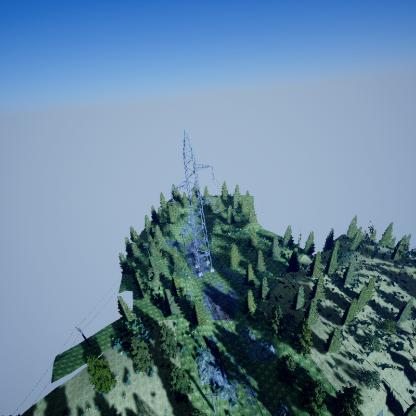tower: (172, 128, 221, 281)
